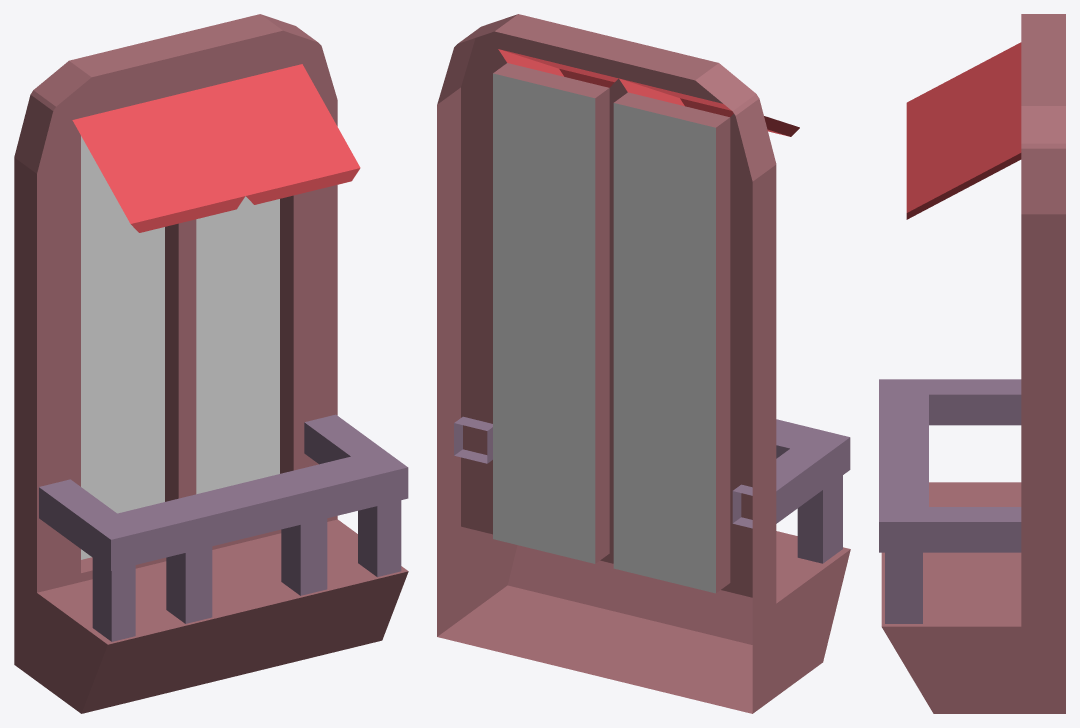
The model's file is Window.fbx.
3 views of the same model, side by side, from view 1: azimuth 30°, elevation 25°; view 2: azimuth 150°, elevation 25°; view 3: azimuth 270°, elevation 25° (orthographic). The views are drawn at different scales.
Parts seen in each view (by area): view 1: WindowBackup.006; view 2: WindowBackup.006; view 3: WindowBackup.006.
Boxes of the visible parts, bbox=[...] form: WindowBackup.006: bbox=[14, 14, 408, 713]; WindowBackup.006: bbox=[437, 14, 850, 713]; WindowBackup.006: bbox=[879, 14, 1065, 713].
Size of the model in its own units: 264 by 495 by 144.
